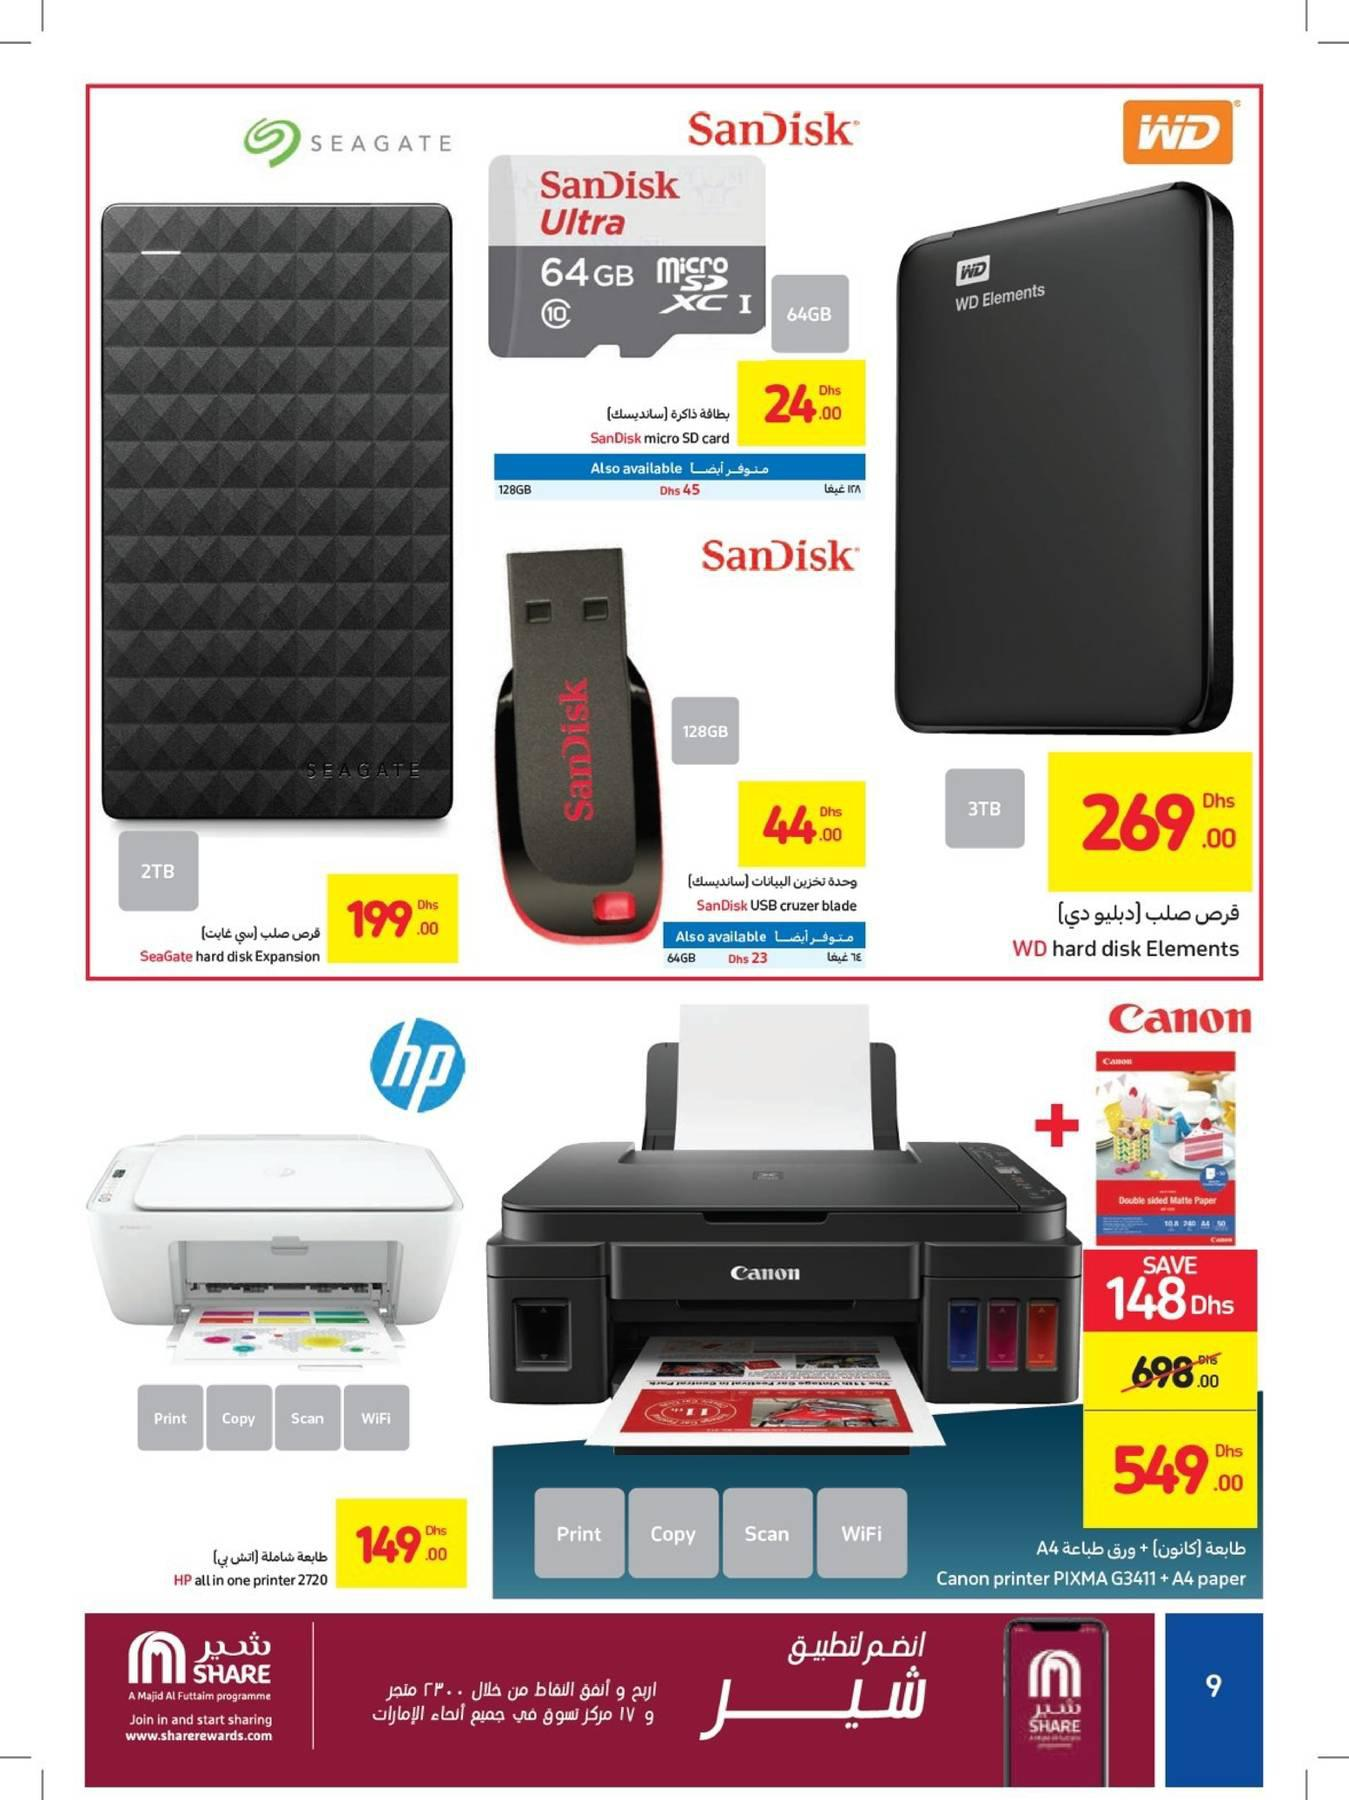text: (928, 1531, 1258, 1597), (1003, 897, 1251, 969), (133, 918, 324, 971), (166, 1541, 334, 1597), (684, 869, 864, 918), (582, 398, 735, 452)
